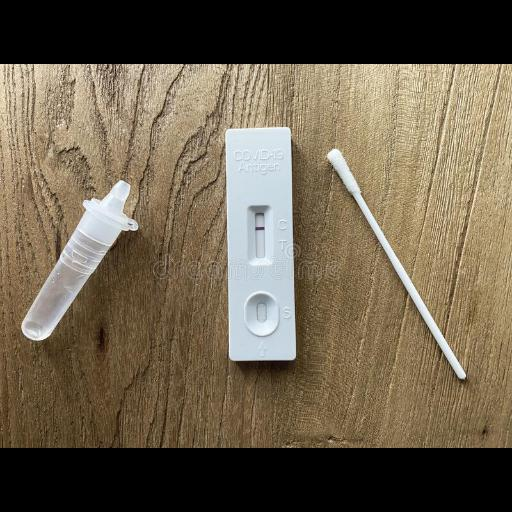Neg: (226, 128, 296, 358)
